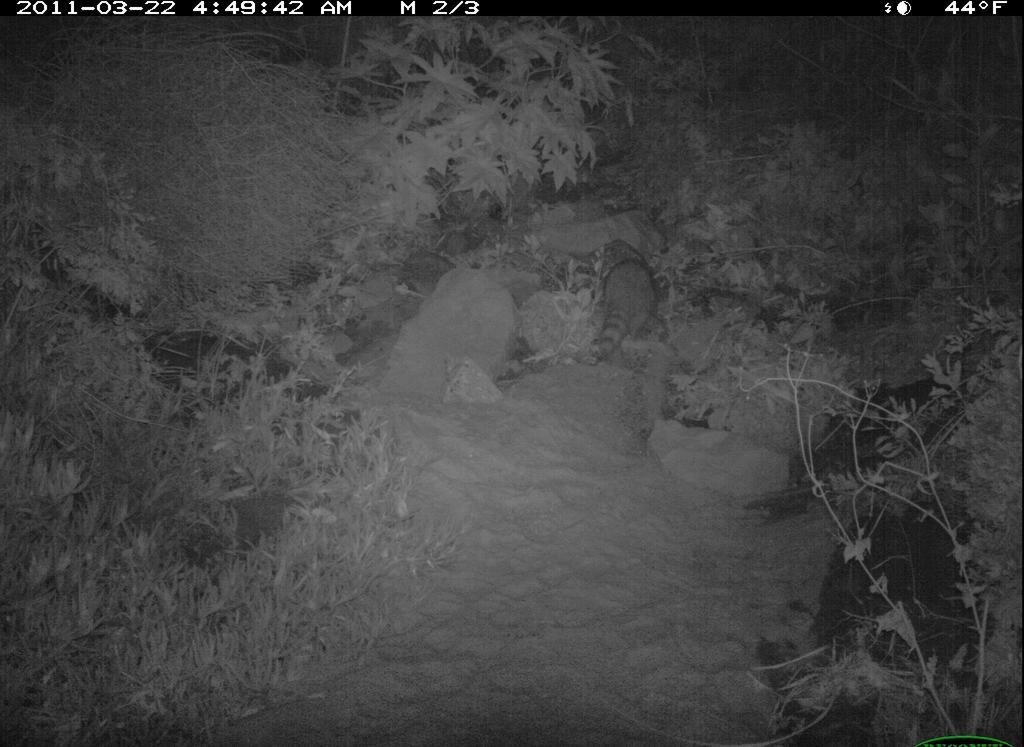raccoon: (585, 248, 670, 364)
